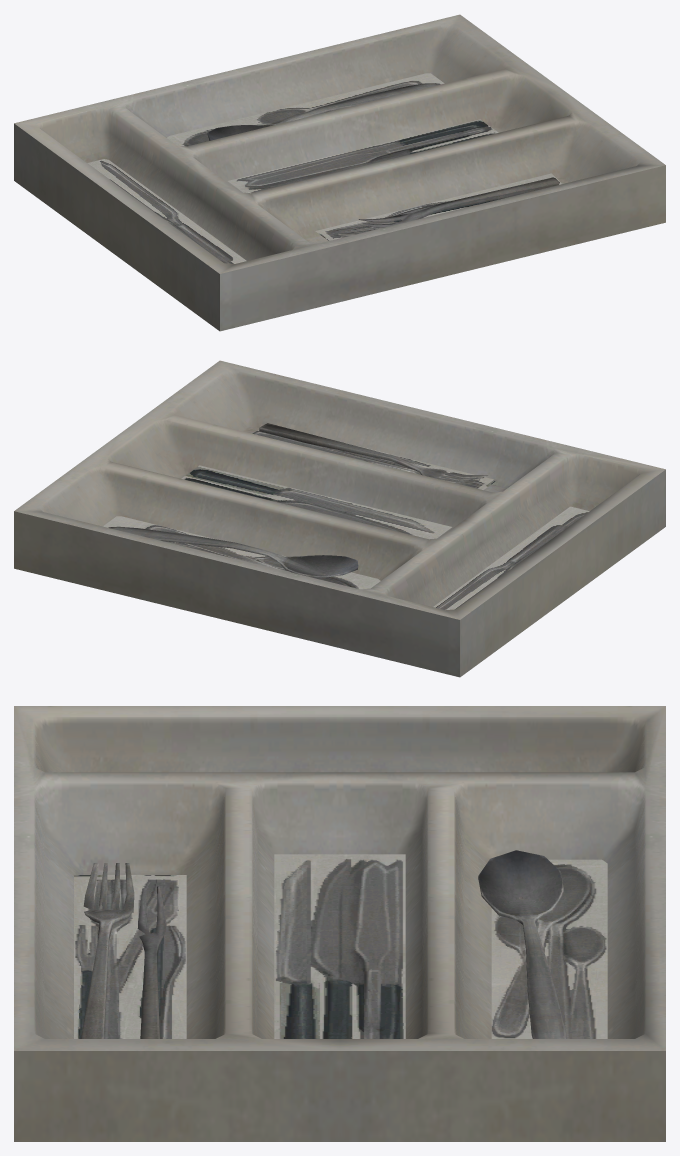
Rendered from kitchen_tools_box.dae.
3 renders of one model, top to bottom at view 1: azimuth 30°, elevation 25°; view 2: azimuth 150°, elevation 25°; view 3: azimuth 270°, elevation 25°, orthographic. The views are drawn at different scales.
Visible parts, largest first — view 1: kitchen_tools_box; view 2: kitchen_tools_box; view 3: kitchen_tools_box.
Boxes of the visible parts, <box> form: kitchen_tools_box: <box>14,14,665,331</box>; kitchen_tools_box: <box>14,360,665,677</box>; kitchen_tools_box: <box>14,706,665,1141</box>.
Size of the model in its own units: 32.57 by 4.01 by 26.04.
